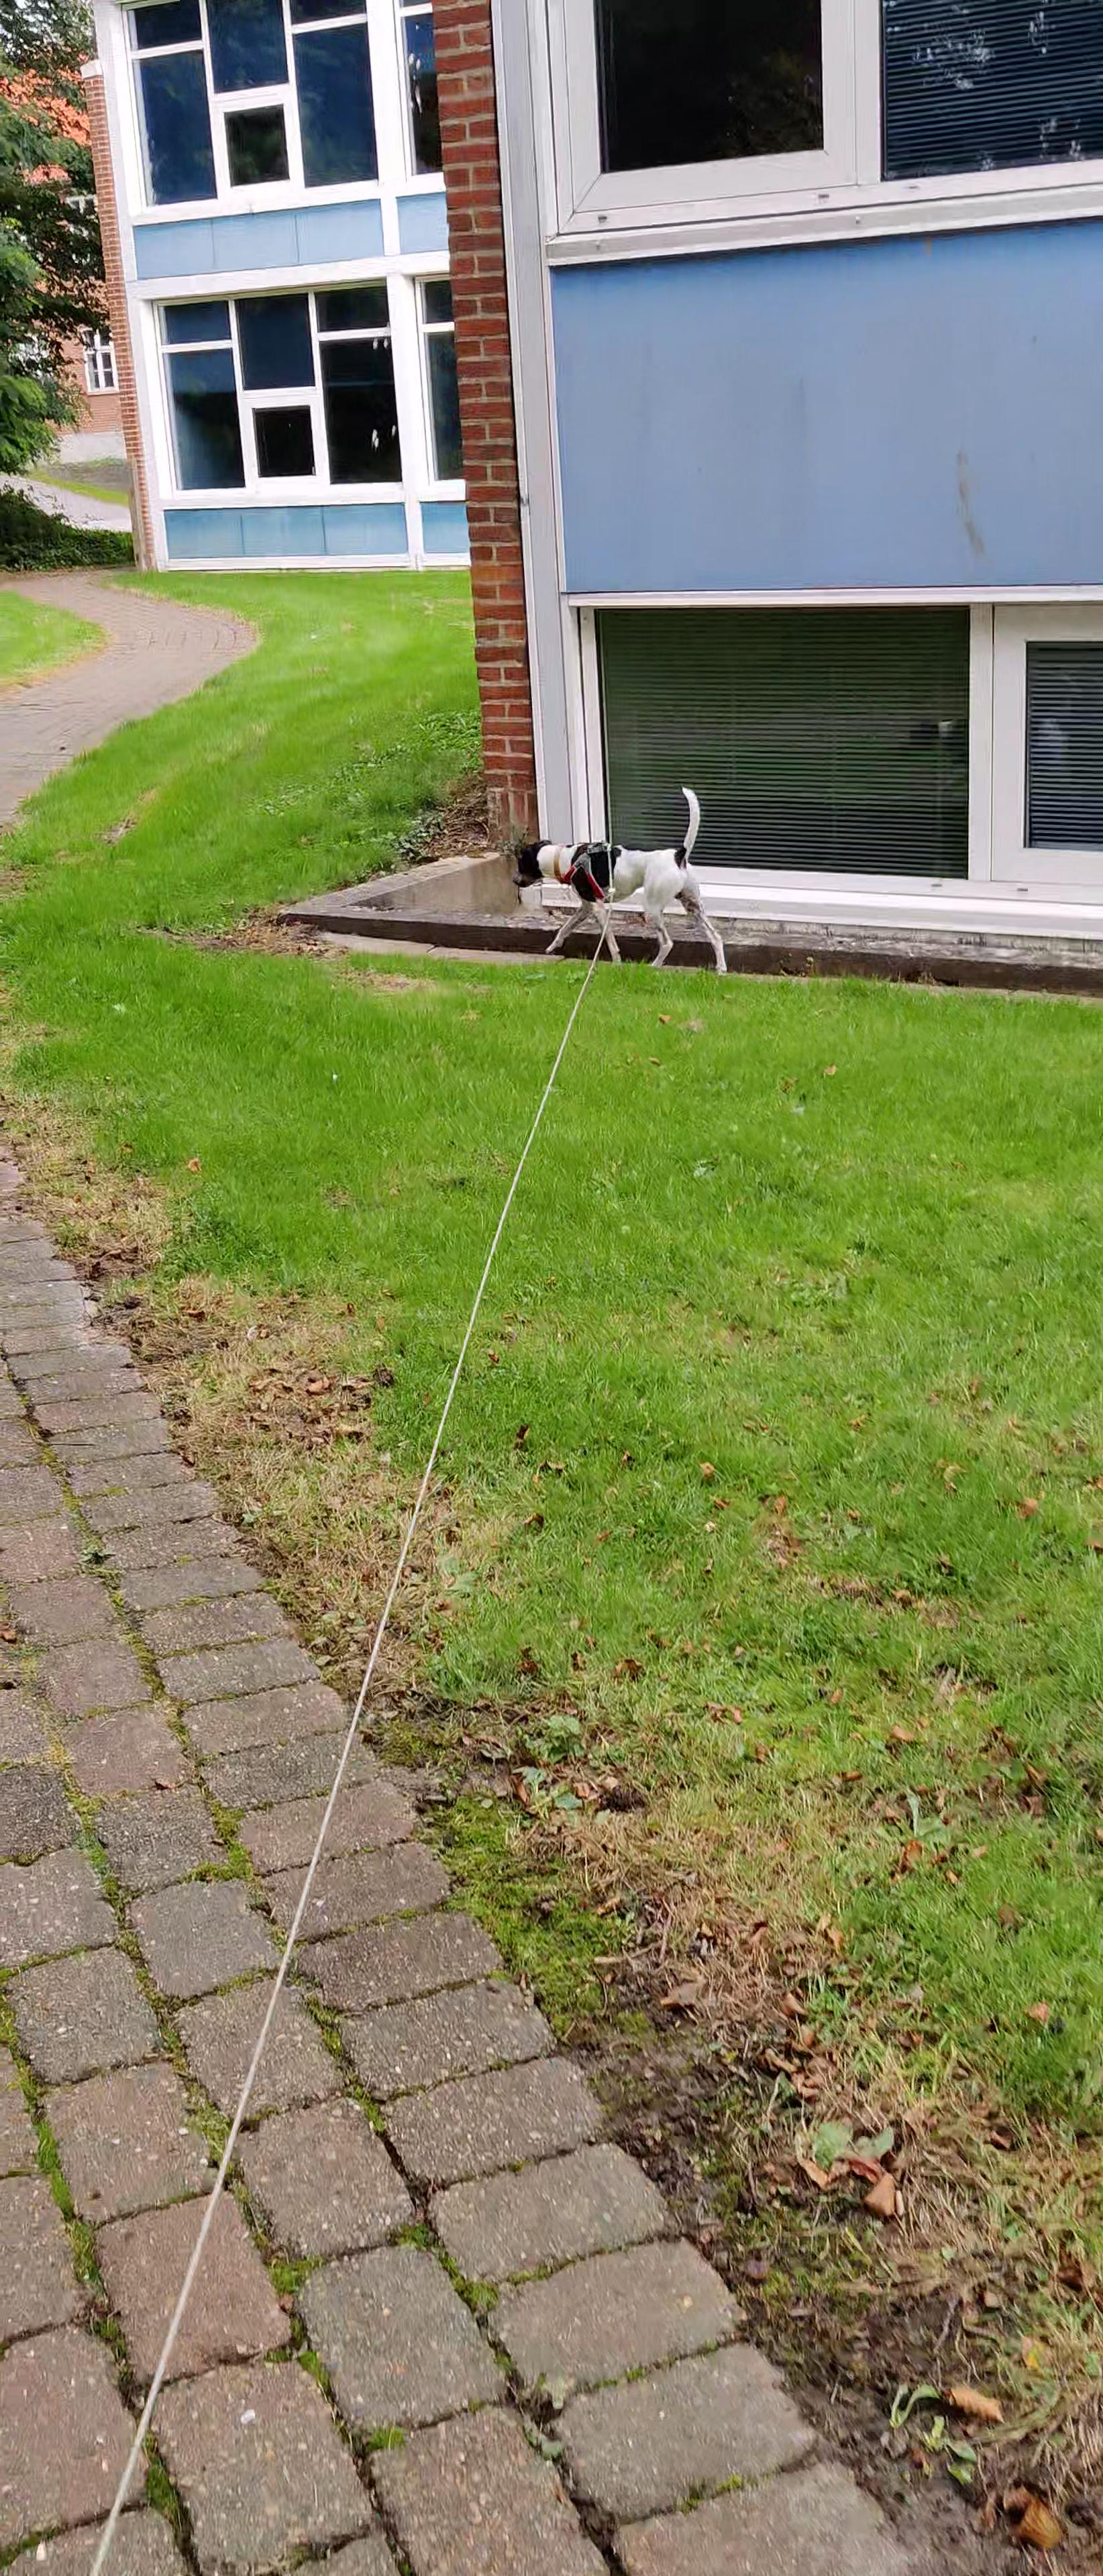Dog: (506, 784, 730, 977)
